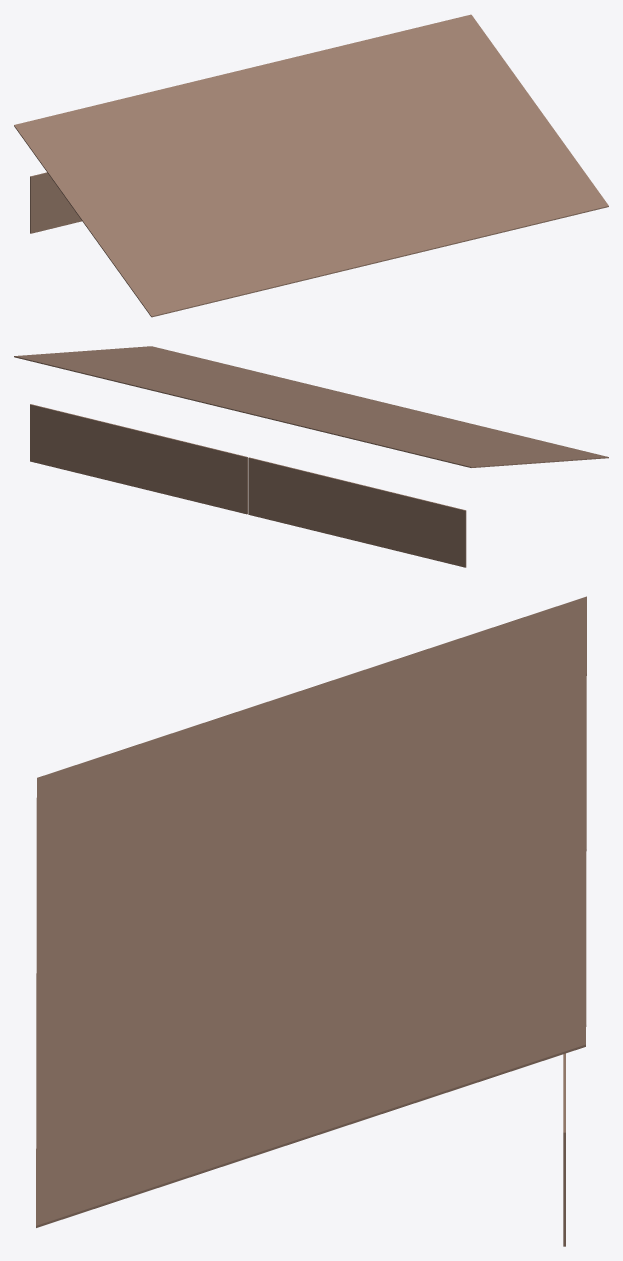
Rendered from awingVar2Defoult2.gltf.
3 renders of one model, top to bottom at view 1: azimuth 30°, elevation 25°; view 2: azimuth 150°, elevation 25°; view 3: azimuth 270°, elevation 25°, orthographic. The views are drawn at different scales.
Parts seen in each view (by area): view 1: awingVar2Defoult2; view 2: awingVar2Defoult2; view 3: awingVar2Defoult2.
Part boxes in pixels (x1,y1,x2,y2): awingVar2Defoult2: [14, 14, 608, 317]; awingVar2Defoult2: [14, 346, 608, 567]; awingVar2Defoult2: [36, 596, 586, 1246].
Bounding box in the file's own units: 4.2 × 0.9411 × 2.19.
